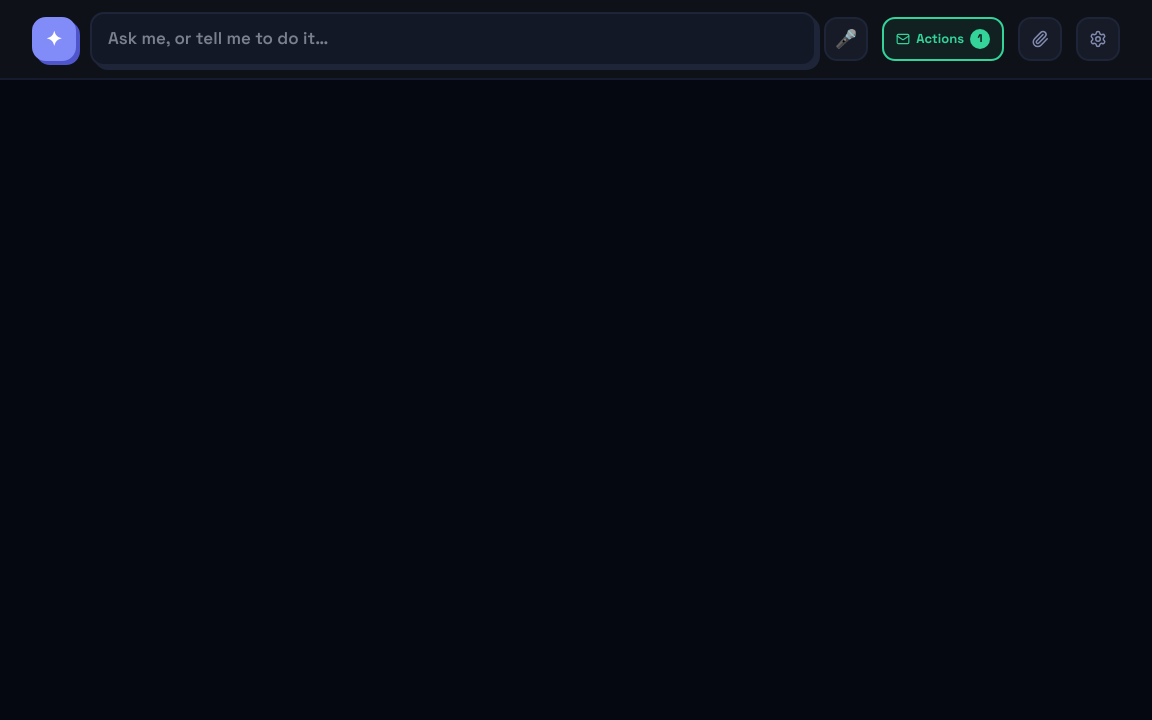
CopilotBar — one-window chat: Actions / Approvals badges + modals (P3) › opens the Actions modal (email finds) from the Actions badge
Click the button with aria-label "Actions (1)" at (943, 39), box 882,17 -> 1004,61
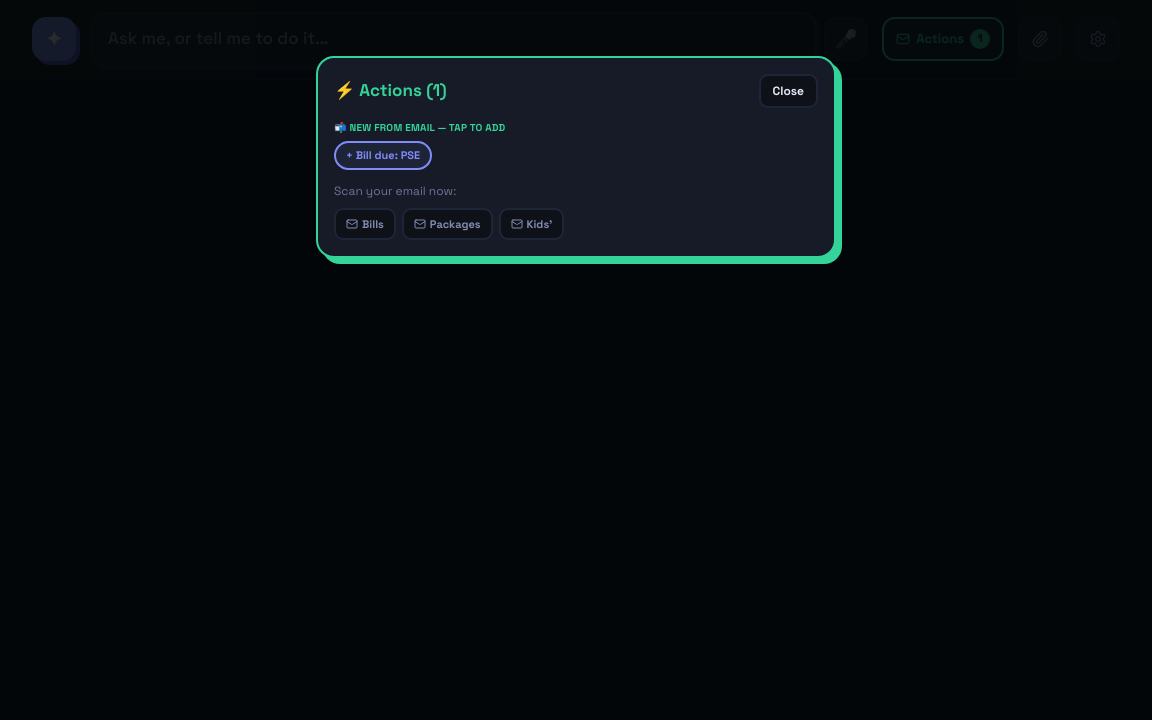
Now the text "📬 New from email — tap to add" is shown, box 334,121 -> 505,134
